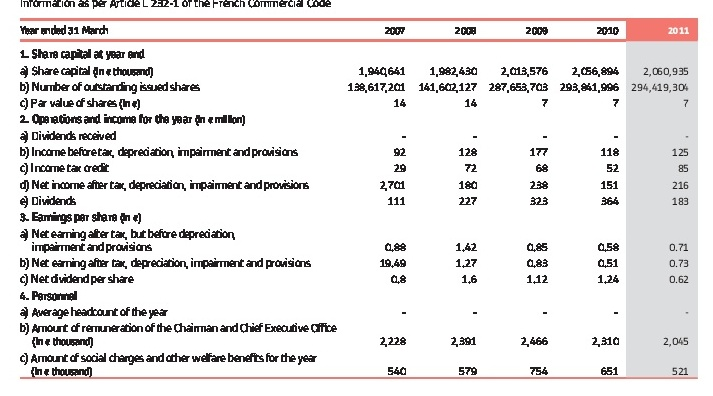table: (0, 0, 713, 396)
